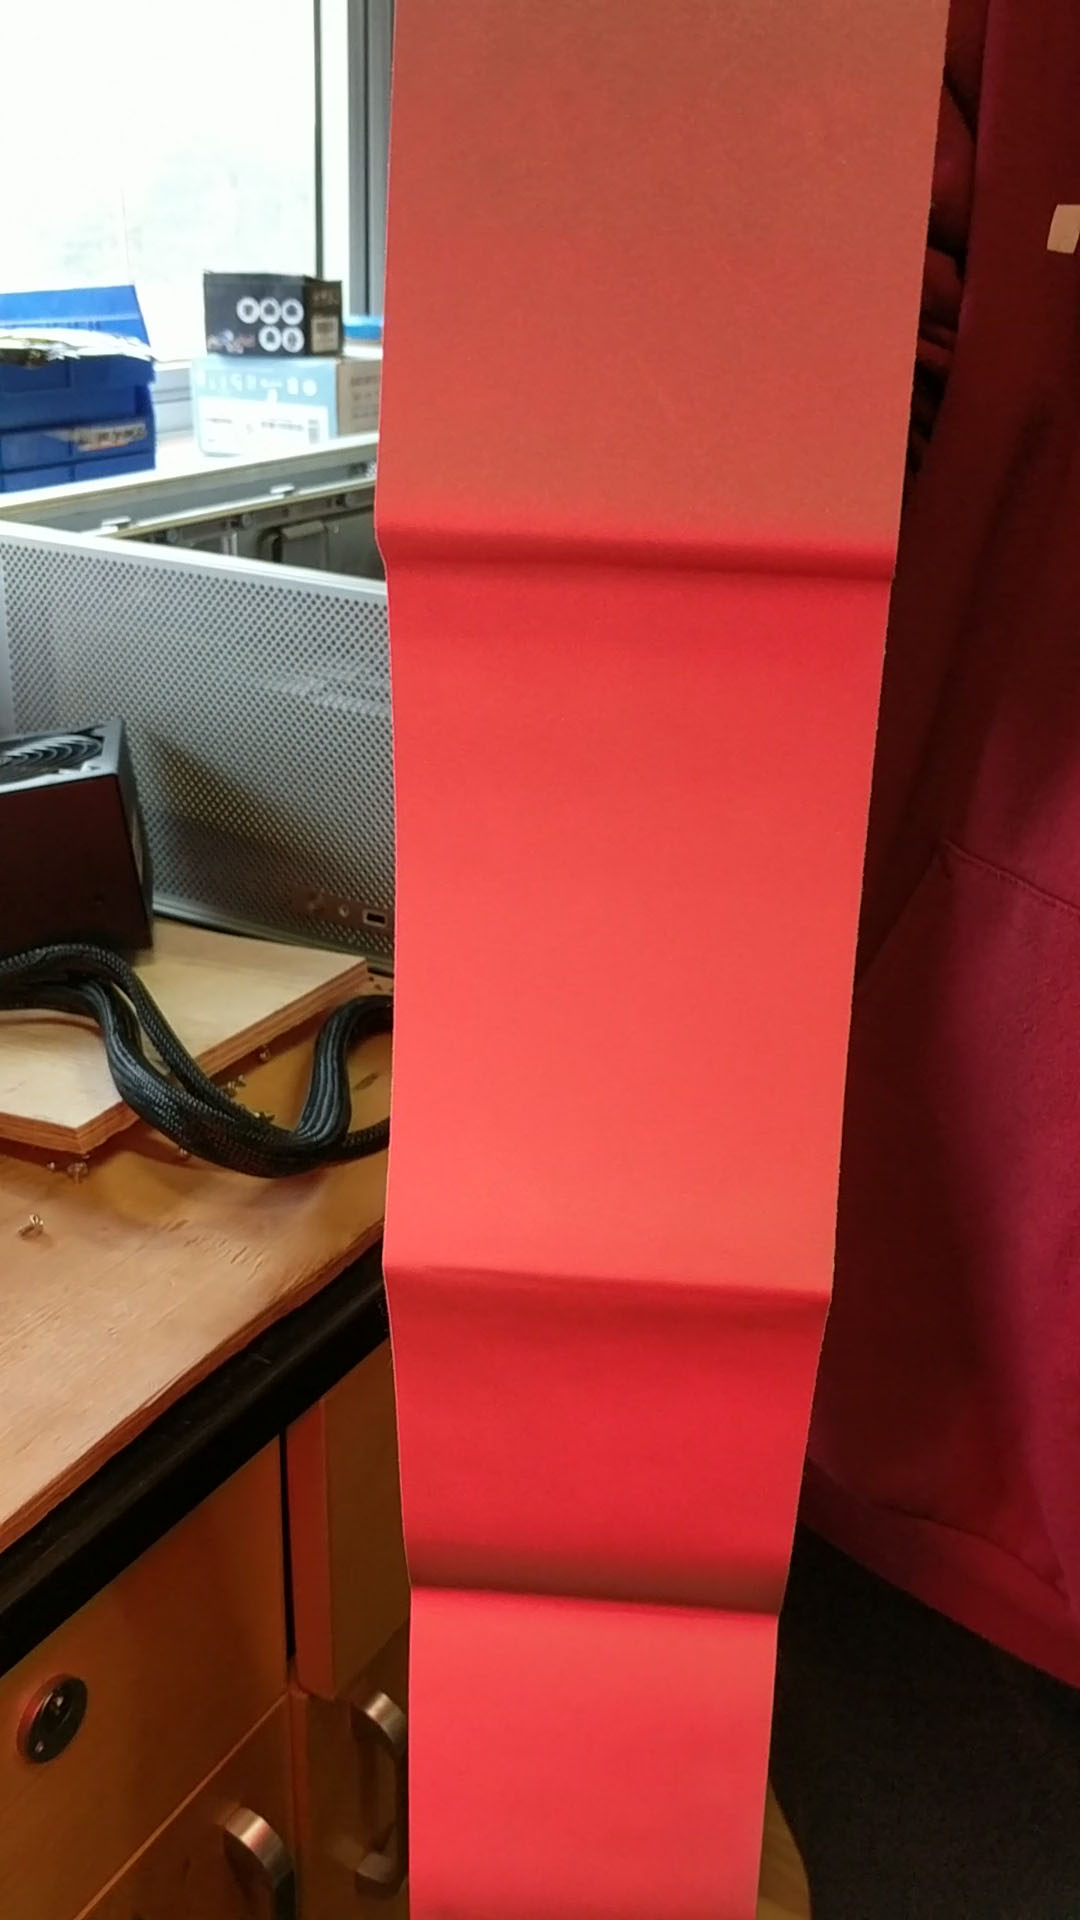gear: (368, 899, 469, 1920)
